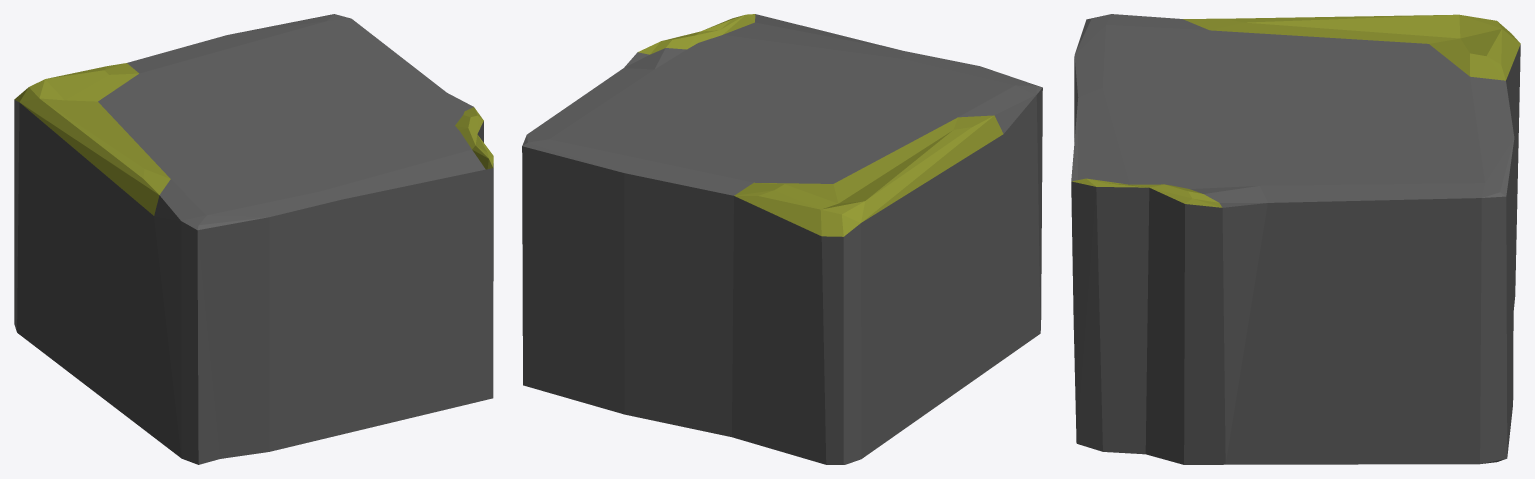
Rendered from tile_squared_moss_type_3_LOD1.fbx.
3 renders of one model, left to right at view 1: azimuth 30°, elevation 25°; view 2: azimuth 150°, elevation 25°; view 3: azimuth 270°, elevation 25°, orthographic. The views are drawn at different scales.
Visible parts, largest first — view 1: tile_squared_moss_type_3; view 2: tile_squared_moss_type_3; view 3: tile_squared_moss_type_3.
Boxes of the visible parts, x1=… form: tile_squared_moss_type_3: x1=14, y1=14, x2=493, y2=464; tile_squared_moss_type_3: x1=522, y1=14, x2=1042, y2=464; tile_squared_moss_type_3: x1=1071, y1=14, x2=1520, y2=464.
Size of the model in its own units: 119 by 82.01 by 120.
